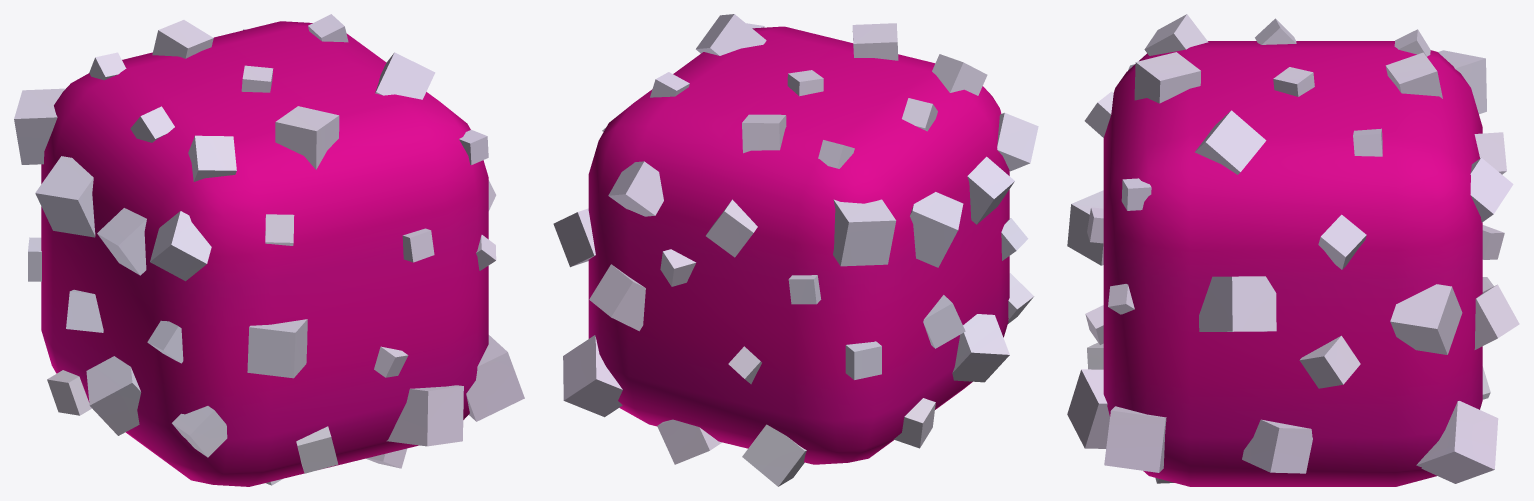
The model's file is candy_glass_22.fbx.
The picture shows the model from 3 angles, left to right: view 1: azimuth 30°, elevation 25°; view 2: azimuth 150°, elevation 25°; view 3: azimuth 270°, elevation 25°; orthographic projection. The views are drawn at different scales.
Parts seen in each view (by area): view 1: c_g_22; view 2: c_g_22; view 3: c_g_22.
Part boxes in pixels (x1,y1,x2,y2): c_g_22: (14, 14, 524, 486); c_g_22: (553, 14, 1038, 486); c_g_22: (1067, 14, 1519, 486).
Bounding box in the file's own units: 139 × 128 × 134.
